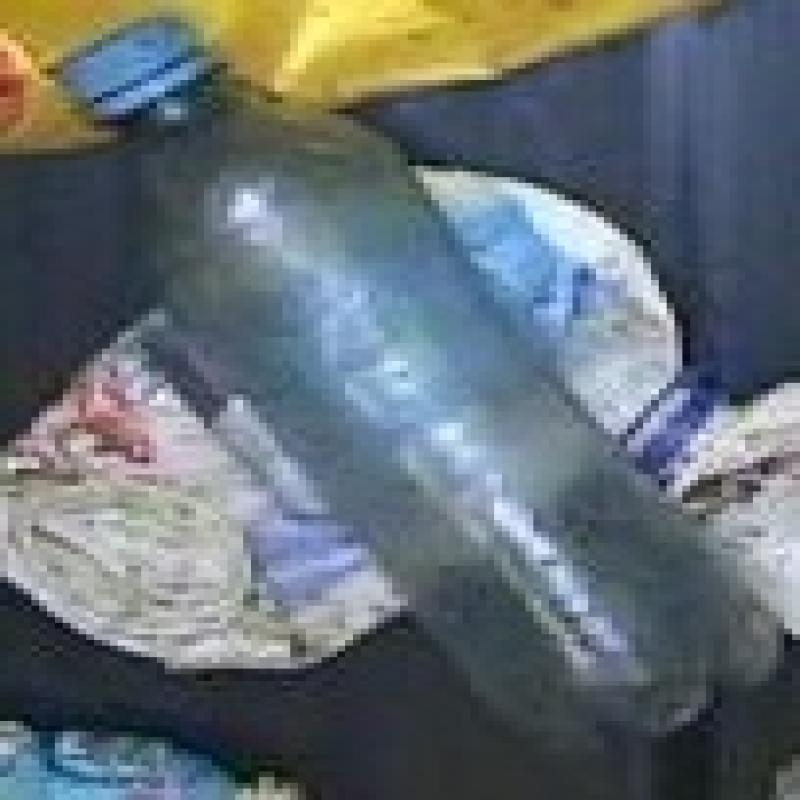botella: (57, 10, 779, 762)
